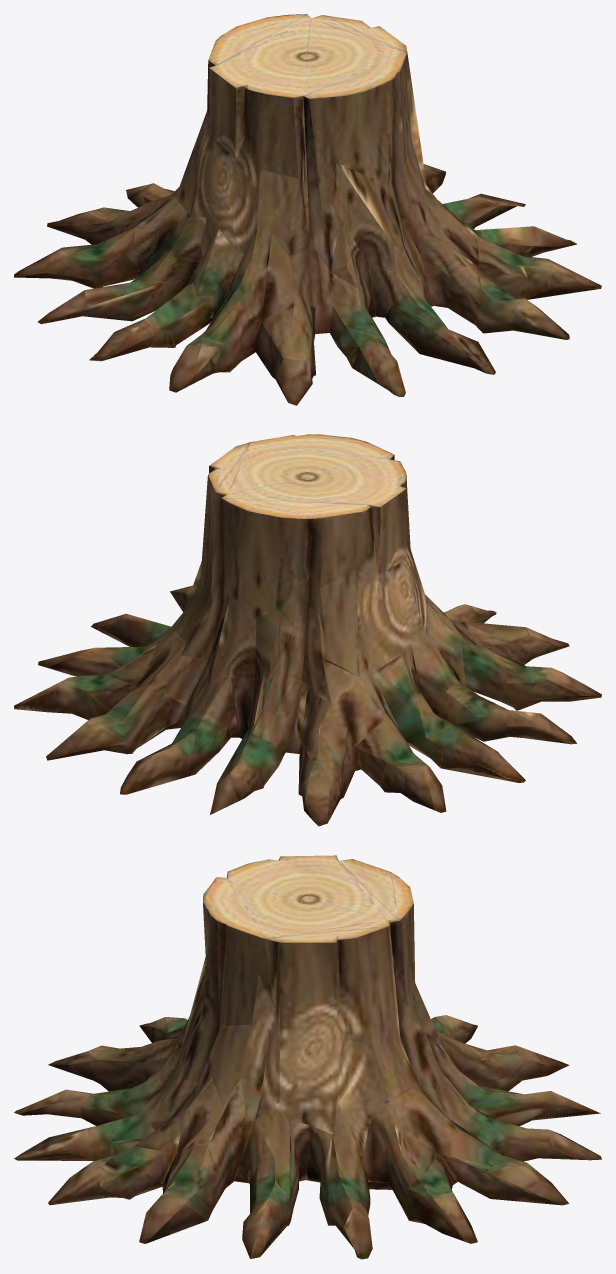
Rendered from Stump.lod1.glb.
The picture shows the model from 3 angles, top to bottom: view 1: azimuth 30°, elevation 25°; view 2: azimuth 150°, elevation 25°; view 3: azimuth 270°, elevation 25°; orthographic projection. The views are drawn at different scales.
Bounding box in the file's own units: 1.31 × 0.6 × 1.31.
1 material, 1 textured.
